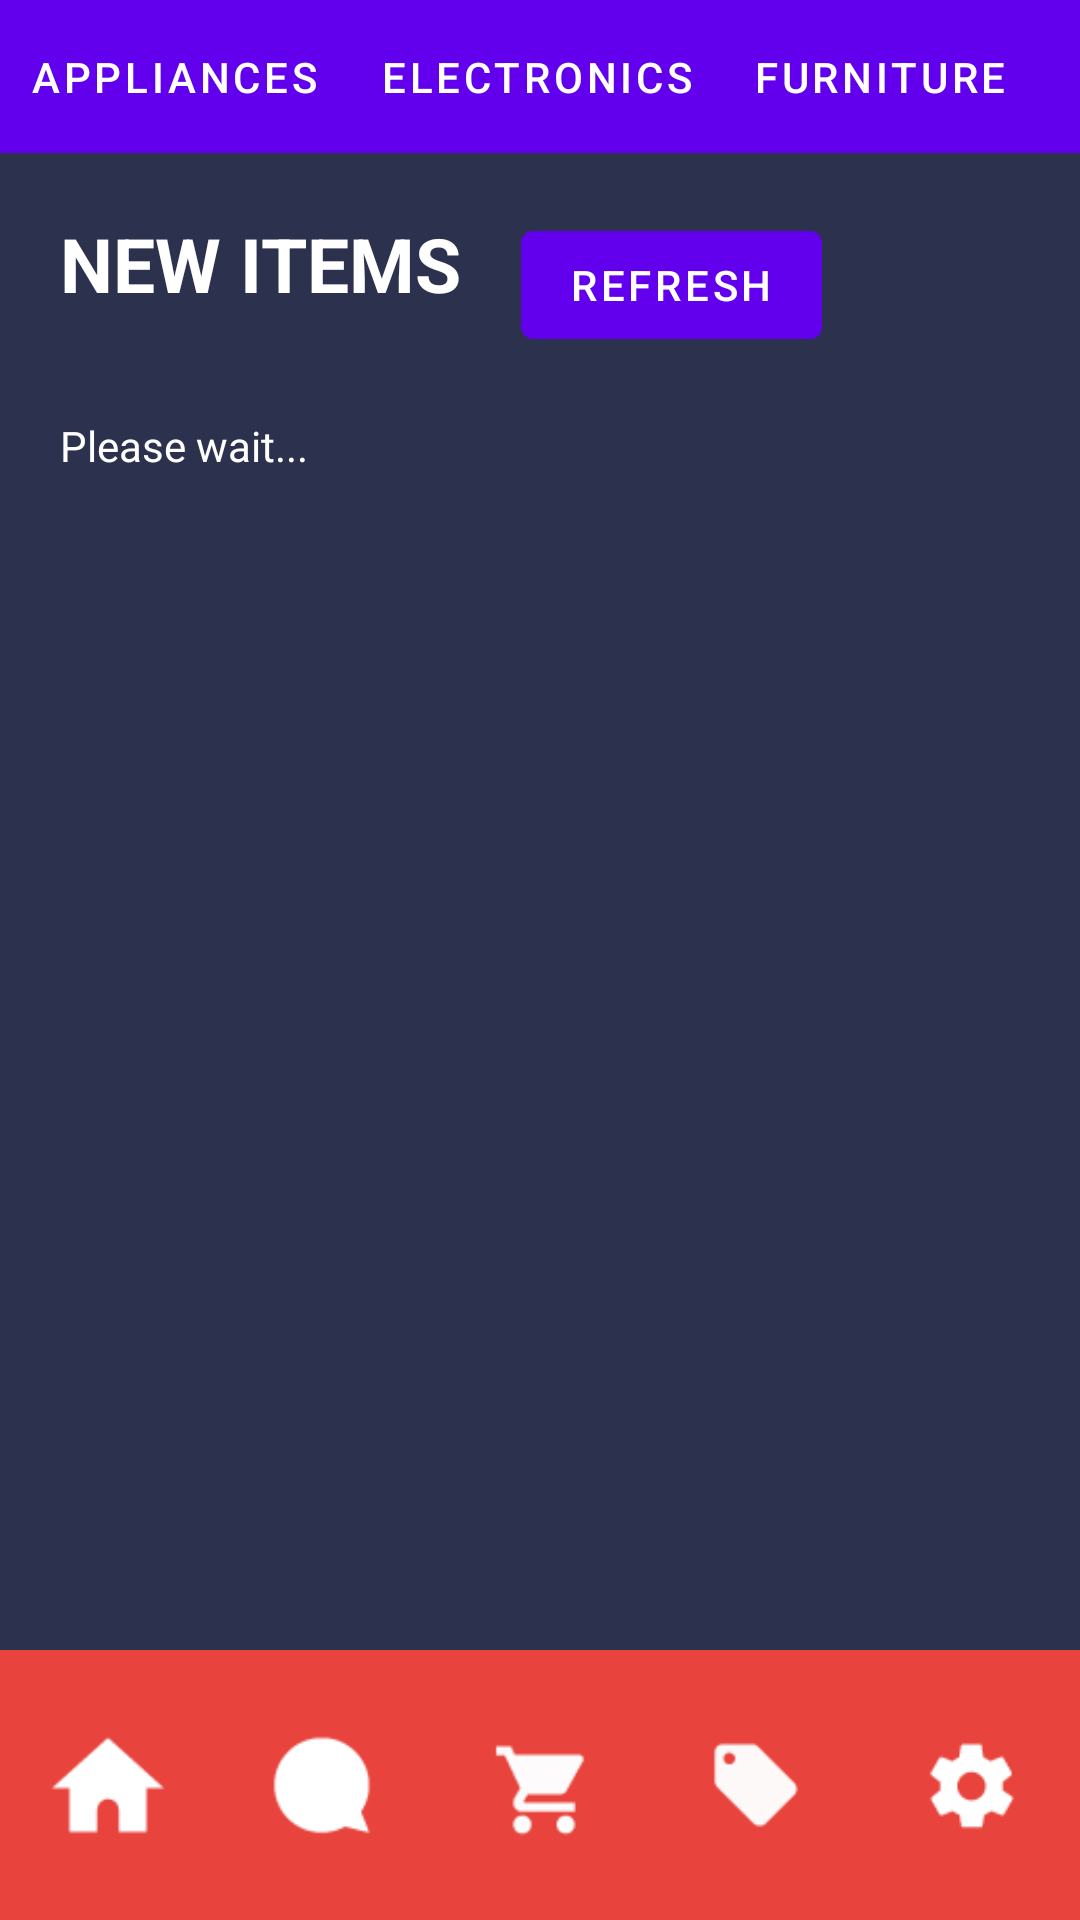

Locate icon controls on the screen. Image size 1080px×1920px, boxes as (x1, y1, x2, y2).
cart: (495, 1745, 584, 1835)
chat: (273, 1737, 370, 1834)
home: (52, 1737, 164, 1833)
sell: (714, 1743, 798, 1827)
settings: (930, 1743, 1014, 1829)
